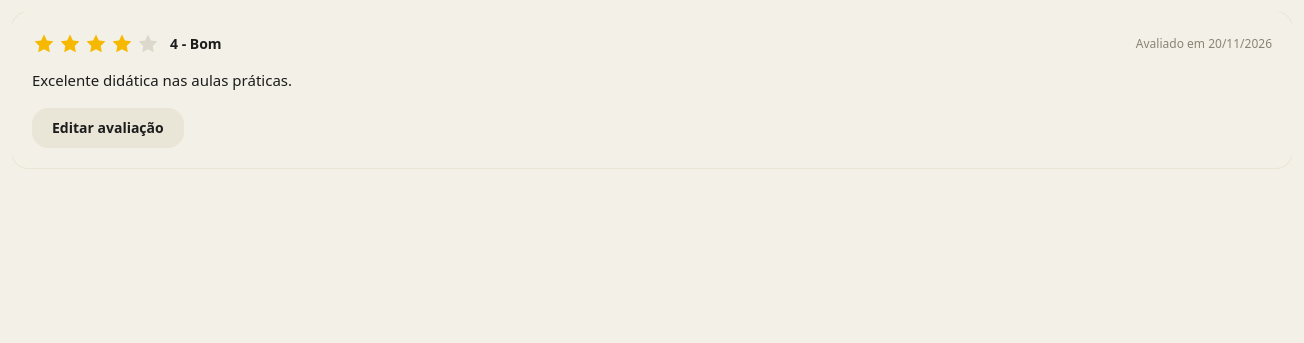
it: BL05.1 · ReviewSection › abre modo de edição preenchido, cancela sem PUT e salva alterações via PUT
Check: the text "Excelente didática nas aulas práticas." is shown, box [32,70,292,90]
Check: the text "4 - Bom" is shown, box [170,34,222,54]
Abre edição e cancela
Click the button "Editar avaliação": (108, 128) [32,108,184,148]
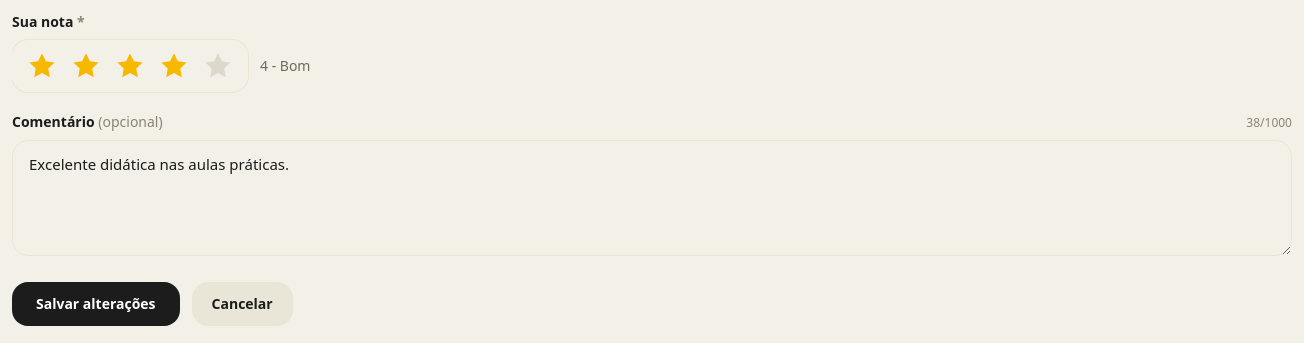
Check: the text box labelled "Comentário (opcional)" holds "Excelente didática nas aulas práticas."
Replace the text in the text box labelled "Comentário (opcional)" with "Rascunho descartado": (652, 198) [12,140,1292,256]
Click the button "Cancelar": (242, 304) [192,282,293,326]
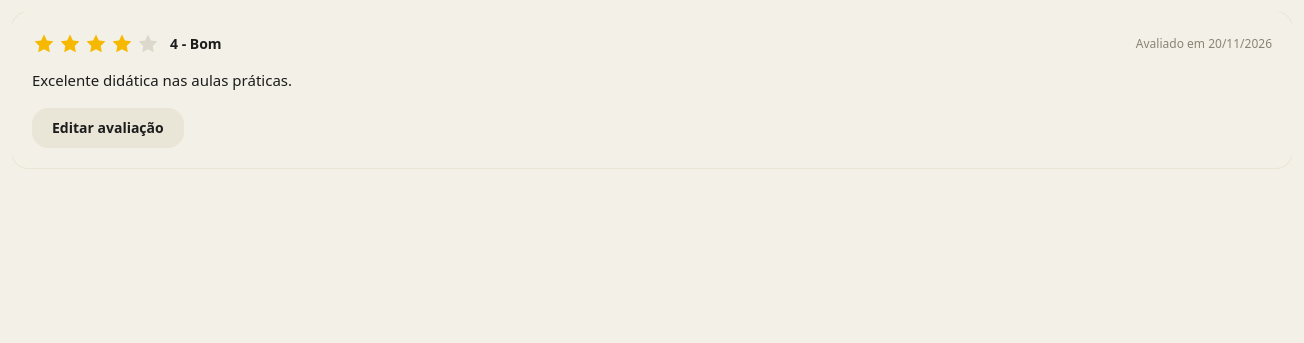
Check: the text "Excelente didática nas aulas práticas." is shown, box [32,70,292,90]
Abre edição novamente e salva via PUT
Click the button "Editar avaliação": (108, 128) [32,108,184,148]
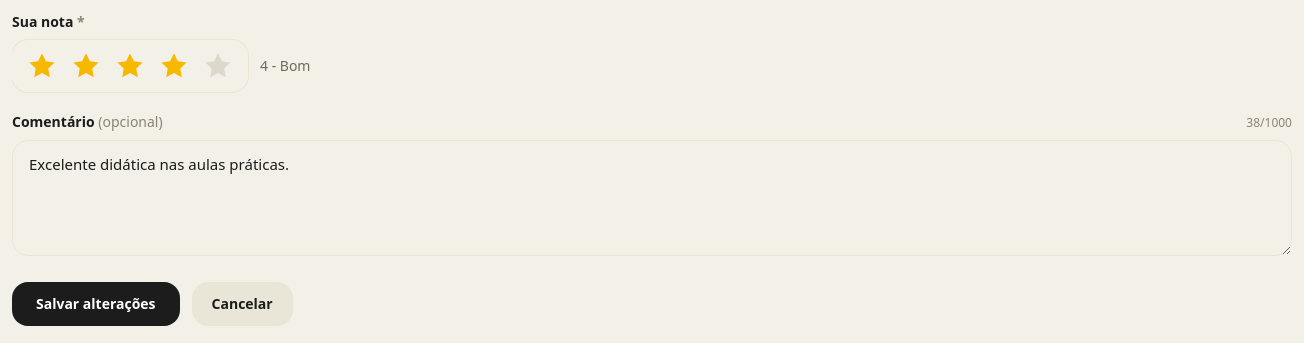
Click the radio button named "5 estrelas": (218, 66) [198,46,238,86]
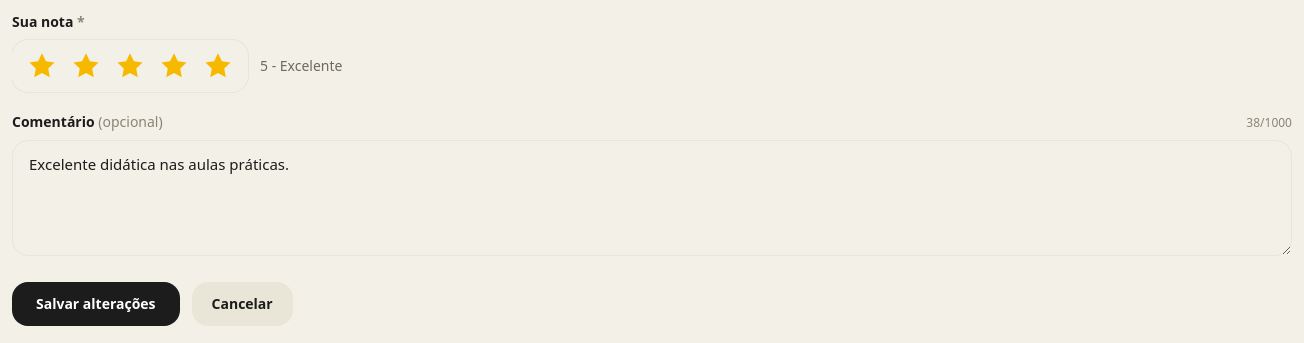
Replace the text in the text box labelled "Comentário (opcional)" with "  Atualizado: aprovado de primeira!  ": (652, 198) [12,140,1292,256]
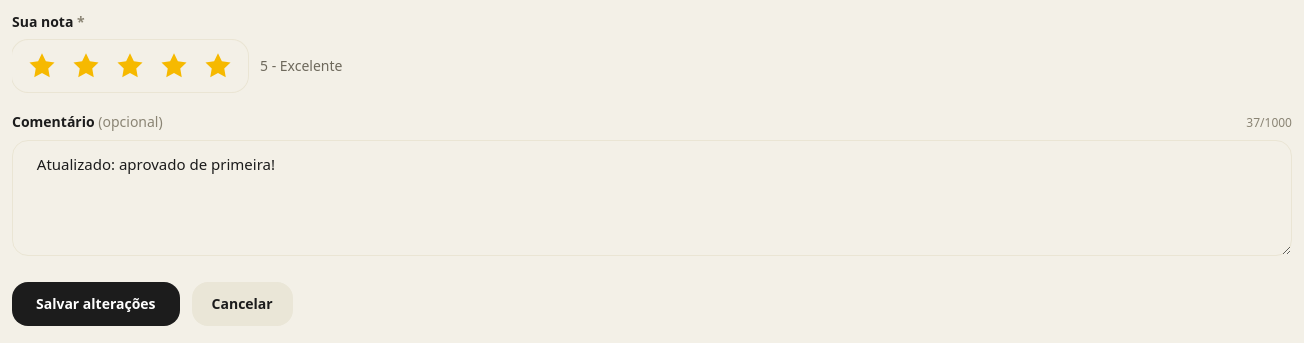
Click the button "Salvar alterações": (96, 304) [12,282,180,326]
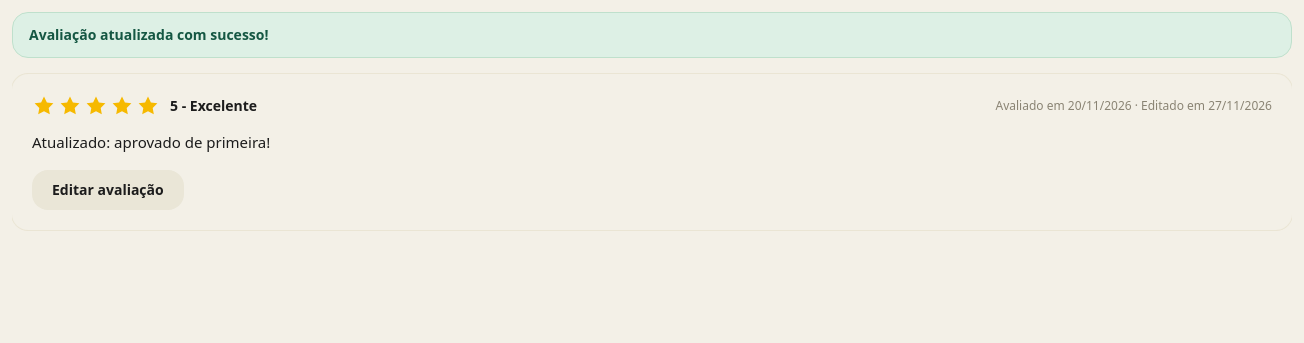
Check: the text "5 - Excelente" is shown, box [170,96,257,116]
Check: the text "Avaliação atualizada com sucesso!" is shown, box [12,12,1292,58]
Check: the text "Atualizado: aprovado de primeira!" is shown, box [32,132,270,152]
